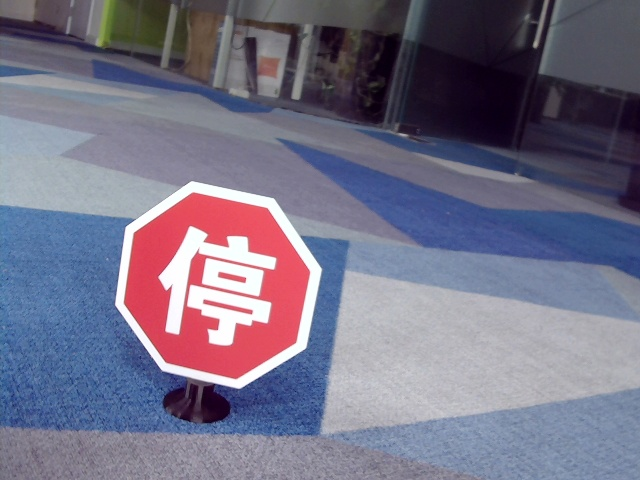stop: (157, 222, 277, 347)
